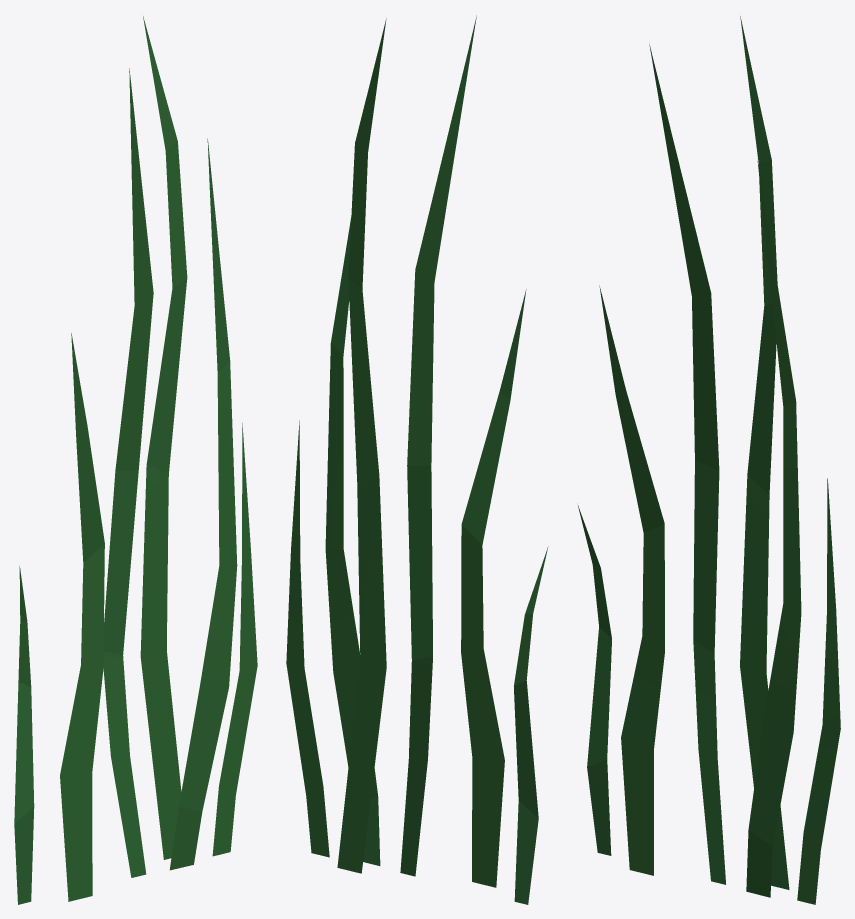
File: grass_sea_long.glb
The picture shows the model from 3 angles, left to right: view 1: azimuth 30°, elevation 25°; view 2: azimuth 150°, elevation 25°; view 3: azimuth 330°, elevation 25°; orthographic projection.
Visible parts, largest first — view 1: grass_sea_long; view 2: grass_sea_long; view 3: grass_sea_long.
Part boxes in pixels (<box>): grass_sea_long: <box>14,16,257,904</box>; grass_sea_long: <box>286,15,548,904</box>; grass_sea_long: <box>578,16,840,904</box>.
Size of the model in its own units: 0.7803 by 2.56 by 0.2167.
1 material, 1 textured.
